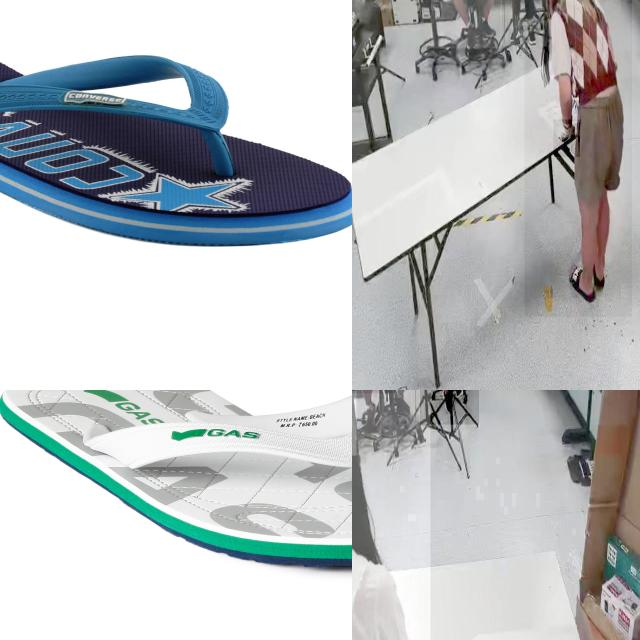Sandals: (0, 36, 352, 247), (0, 390, 352, 572)
hand_glove: (554, 119, 580, 157)
person: (524, 0, 632, 317), (352, 390, 431, 640), (431, 0, 502, 49), (500, 0, 547, 46)
shoes: (391, 390, 411, 420), (462, 20, 478, 54), (479, 14, 497, 40), (439, 390, 455, 412), (450, 390, 465, 400)
